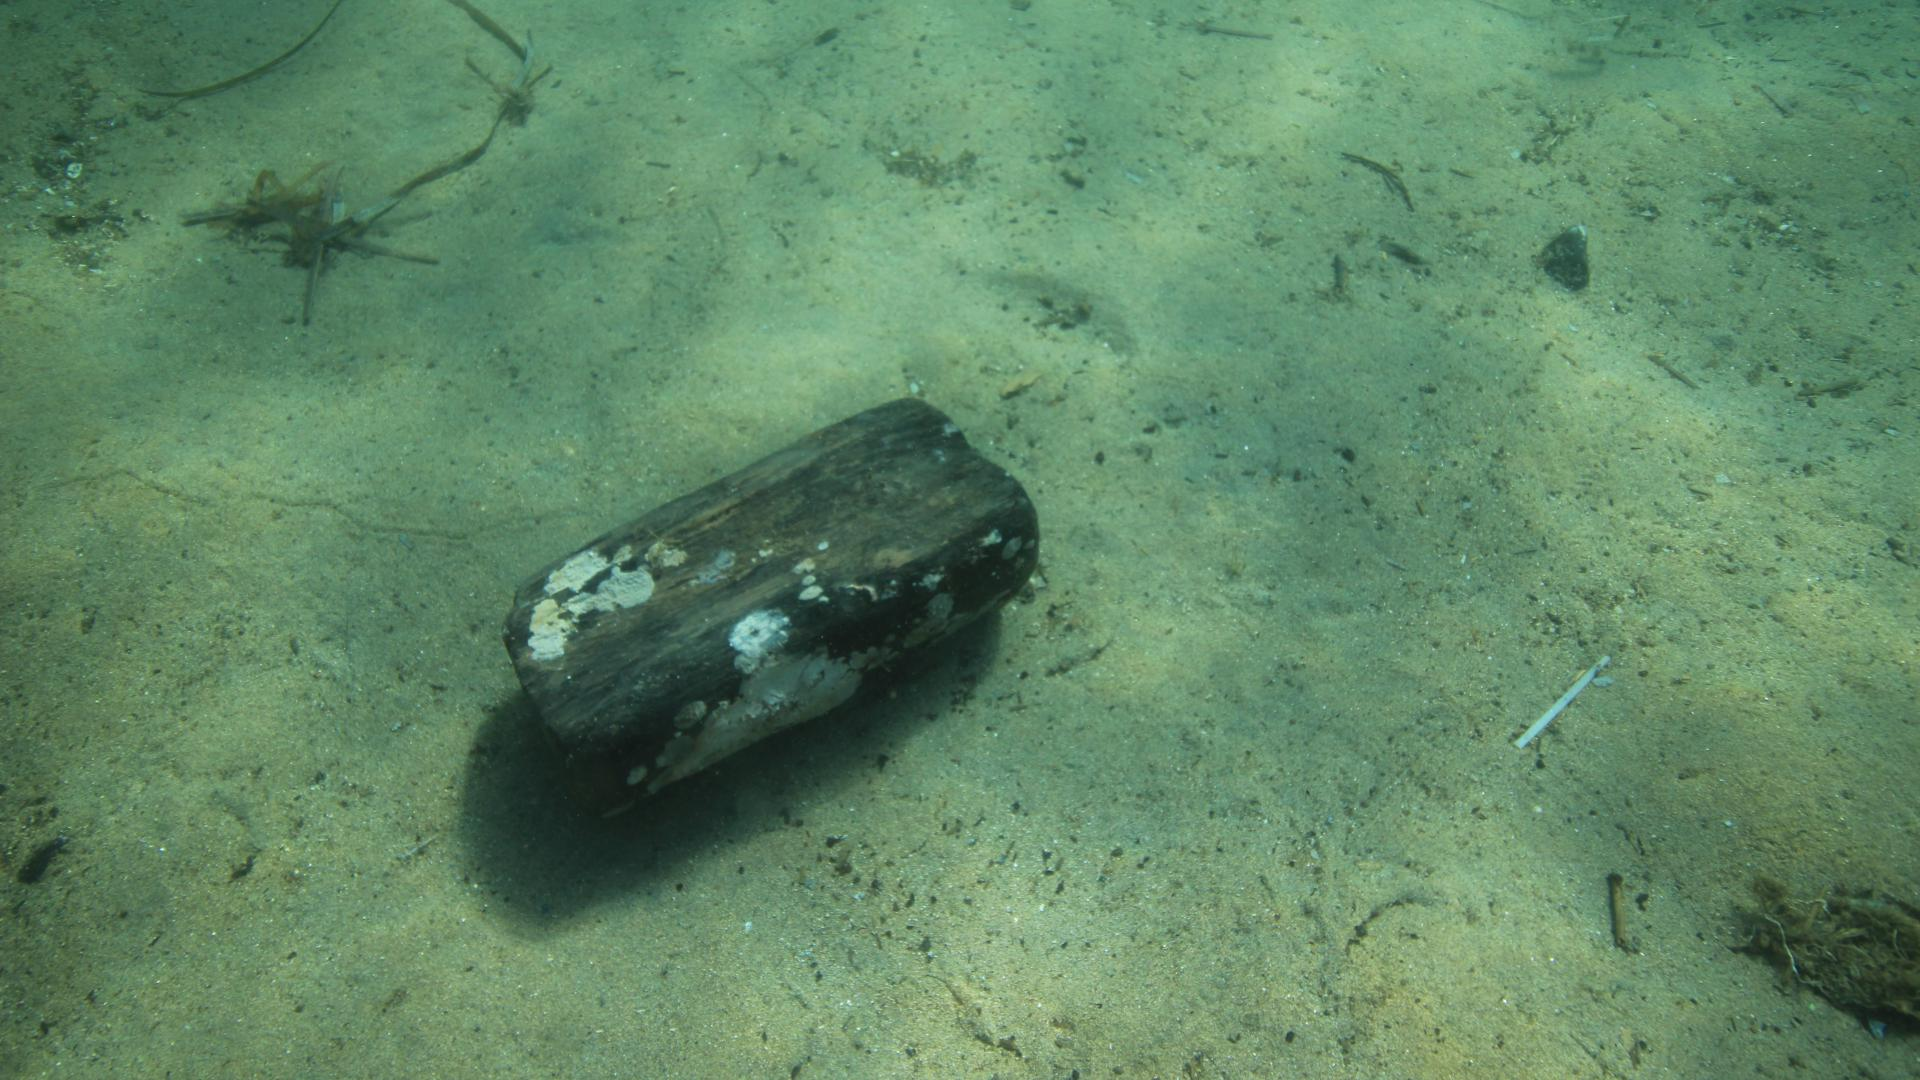wood: (502, 396, 1039, 818)
